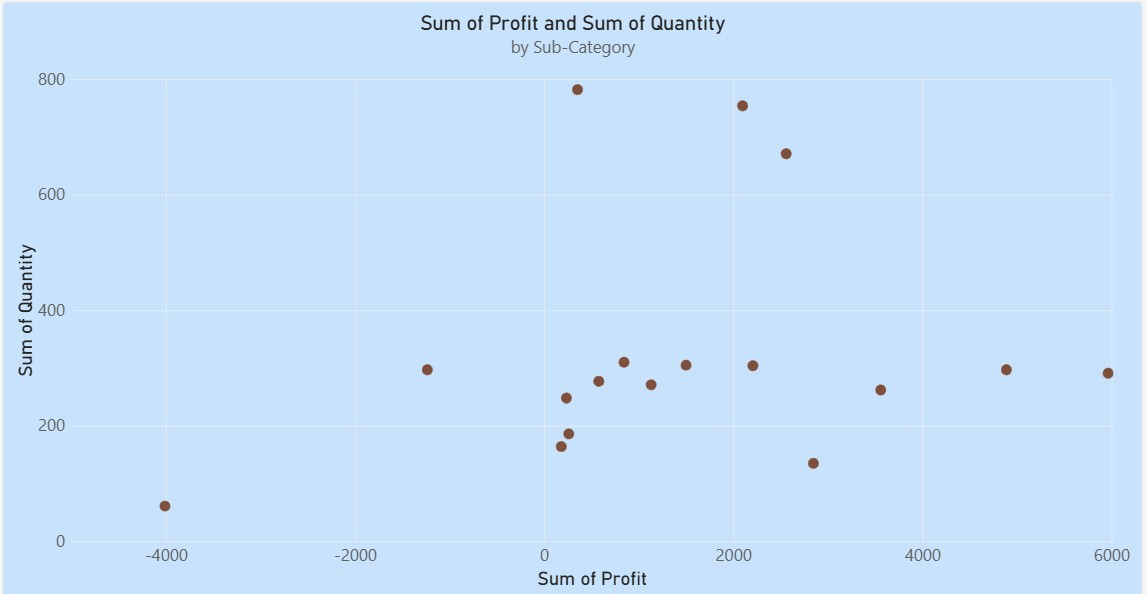

Layout of this report page (visuals, bound fields, positions):
{"tool":"powerbi","page":{"name":"scatter Chart","canvas":[1920,1080],"ordinal":3},"visuals":[{"type":"scatterChart","fields":{"Category":["Order Details (3).Sub-Category"],"X":["Sum(Order Details (3).Profit)"],"Y":["Sum(Order Details (3).Quantity)"]},"box":[35.8,54.9,1813.3,952],"z":0}]}

Visuals, with their boxes on the page's 1920x1080 design canvas (x1, y1, x2, y2). These are canvas units, not pixel positions in the 1147x594 screenshot, which may show the page scaled, cropped or inside an application window:
scatterChart - Order Details (3).Sub-Category x Sum(Order Details (3).Profit): region(36, 55, 1849, 1007)
